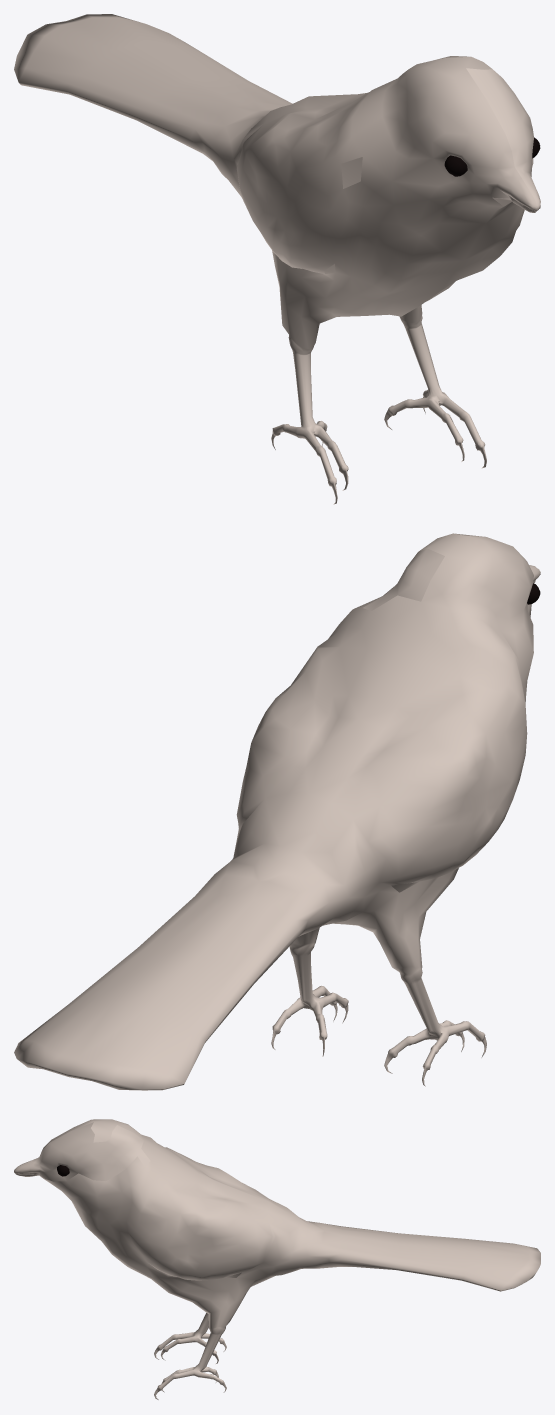
3 views of the same model, one above another, from view 1: azimuth 30°, elevation 25°; view 2: azimuth 150°, elevation 25°; view 3: azimuth 270°, elevation 25° (orthographic). The views are drawn at different scales.
Visible parts, largest first — view 1: chickdee; view 2: chickdee; view 3: chickdee.
Part boxes in pixels (x1=…): chickdee: x1=14, y1=14, x2=540, y2=504; chickdee: x1=14, y1=533, x2=540, y2=1090; chickdee: x1=14, y1=1119, x2=540, y2=1399.
Size of the model in its own units: 0.0274 by 0.0542 by 0.1002.
